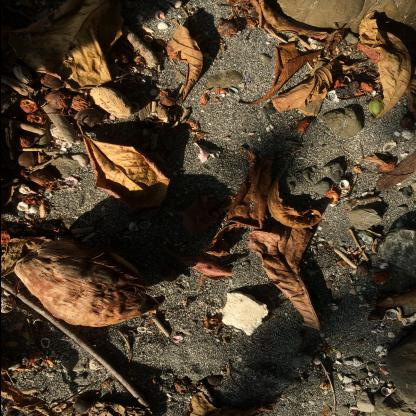kopuk: (221, 290, 268, 336)
